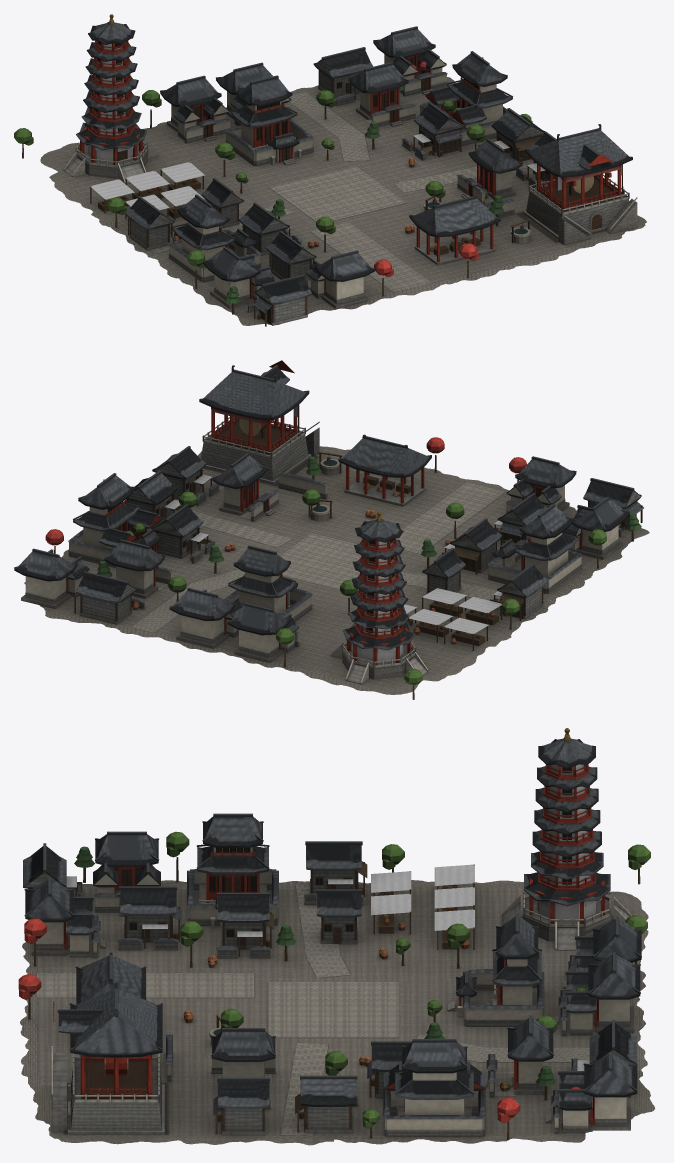
The model's file is kingdoms-town-medium-b-sinic-a4430a0b.glb.
The picture shows the model from 3 angles, top to bottom: view 1: azimuth 30°, elevation 25°; view 2: azimuth 150°, elevation 25°; view 3: azimuth 270°, elevation 25°; orthographic projection. The views are drawn at different scales.
Visible parts, largest first — view 1: LOD0; view 2: LOD0; view 3: LOD0.
Boxes of the visible parts, x1=… form: LOD0: x1=14, y1=14, x2=646, y2=326; LOD0: x1=14, y1=360, x2=649, y2=699; LOD0: x1=18, y1=728, x2=655, y2=1145.
Size of what is drawn, in the model's own units: 6.04 by 2.05 by 6.09.
3 materials, 3 textured.
